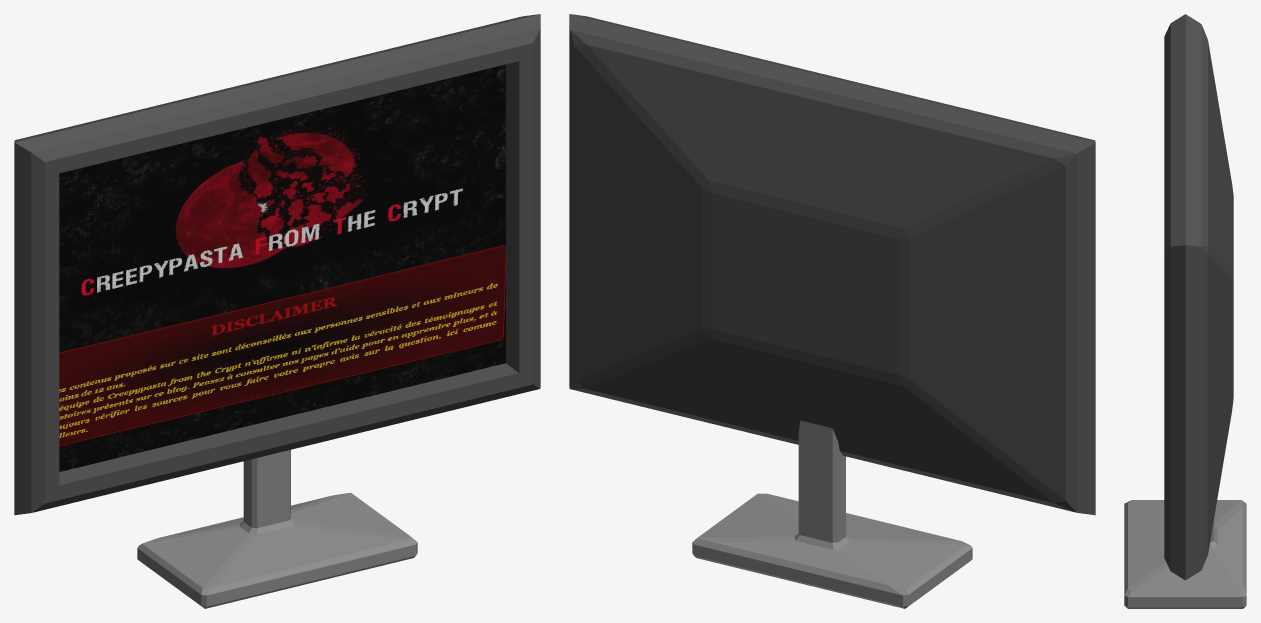
Rendered from ecrancreepy.fbx.
The picture shows the model from 3 angles, left to right: view 1: azimuth 30°, elevation 25°; view 2: azimuth 150°, elevation 25°; view 3: azimuth 270°, elevation 25°; orthographic projection. The views are drawn at different scales.
Visible parts, largest first — view 1: Monitor; view 2: Monitor; view 3: Monitor.
Part boxes in pixels (<box>): Monitor: <box>14,14,540,608</box>; Monitor: <box>569,14,1095,608</box>; Monitor: <box>1124,14,1246,608</box>.
Size of the model in its own units: 453 by 397 by 102.
3 materials, 1 textured.
